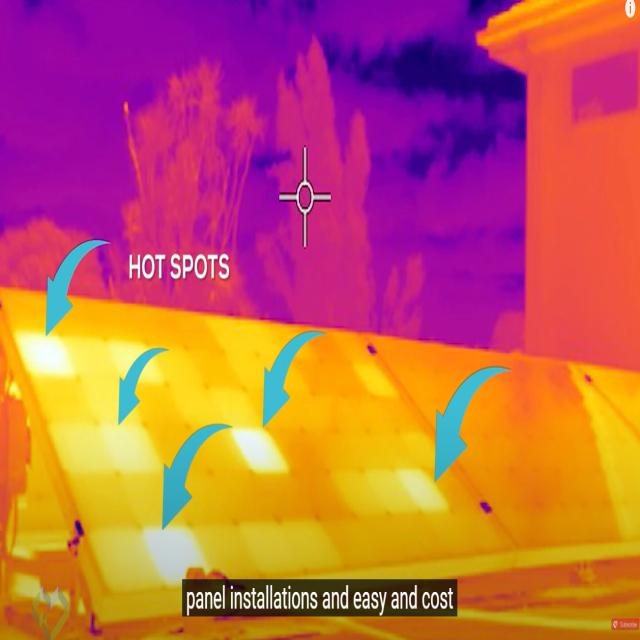hotspot group: (344, 448, 445, 515), (142, 505, 213, 587), (20, 317, 83, 405), (228, 413, 291, 480)
panel with hotspots: (0, 285, 521, 629)
